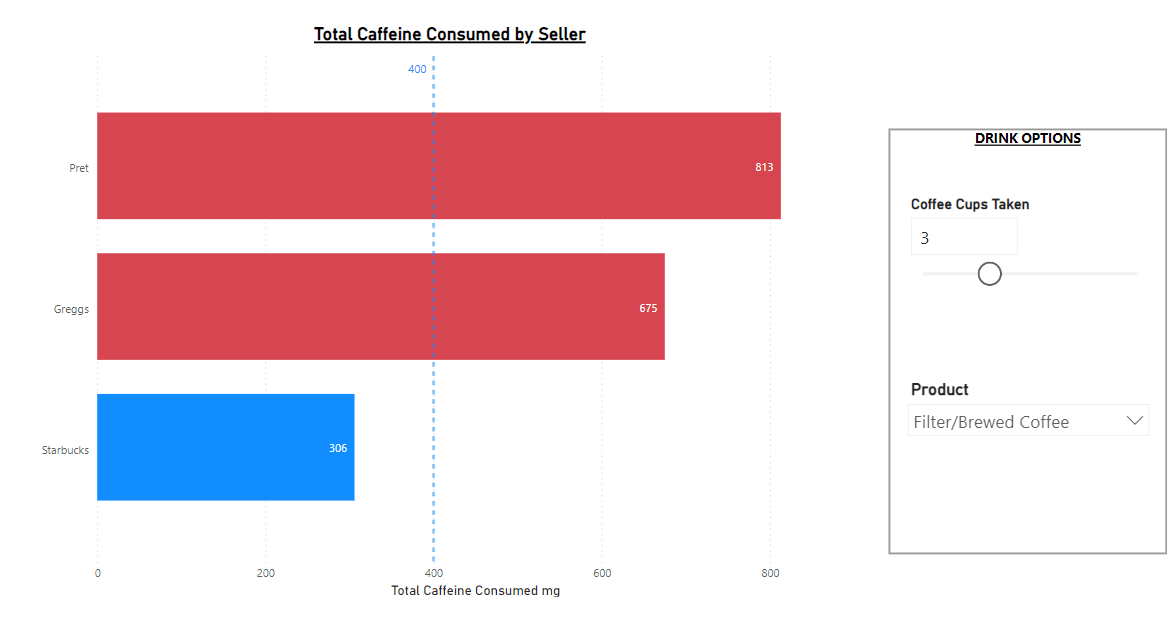

The page's visual inventory and layout, read from the dashboard file:
{"tool":"powerbi","page":{"name":"CaffeinConsumption","canvas":[1280,720],"ordinal":0},"visuals":[{"type":"shape","box":[969.5,160.6,300.5,459.2],"z":0},{"type":"slicer","fields":{"Values":["Coffee Cups Taken.Coffee Cups Taken"]},"box":[980.8,226.8,279.7,177.6],"z":1000},{"type":"slicer","fields":{"Values":["CaffeinData.Product"]},"box":[980.8,425.2,279.7,128.5],"z":2000},{"type":"barChart","title":"Total Caffeine Consumed by Seller","fields":{"Y":["CaffeinData.Total Caffein Consumed"],"Category":["CaffeinData.Seller"]},"box":[45.4,47.2,901.4,623.6],"z":3000}]}

Visuals, with their boxes in screenshot pixels (x1, y1, x2, y2), scaled from the page's 1280x720 canvas onto the 1171x640 screenshot:
shape: 887, 143, 1162, 551
slicer - Coffee Cups Taken.Coffee Cups Taken: 897, 202, 1153, 359
slicer - CaffeinData.Product: 897, 378, 1153, 492
"Total Caffeine Consumed by Seller" barChart: 42, 42, 866, 596
